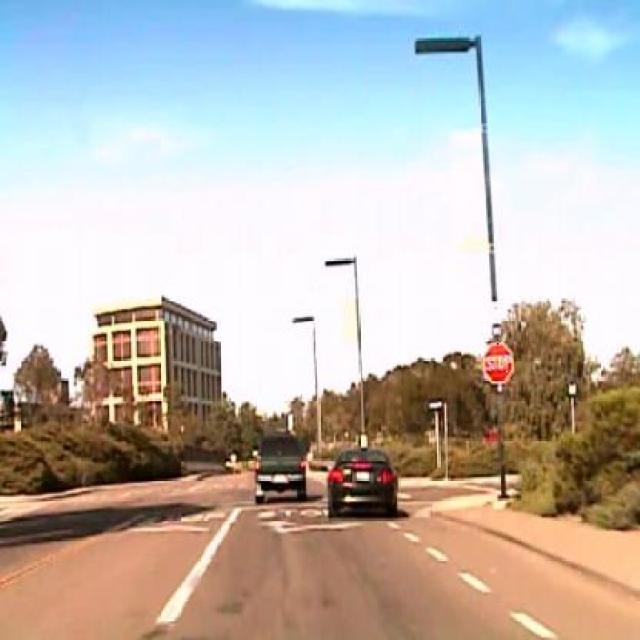stop: (483, 342, 514, 384)
